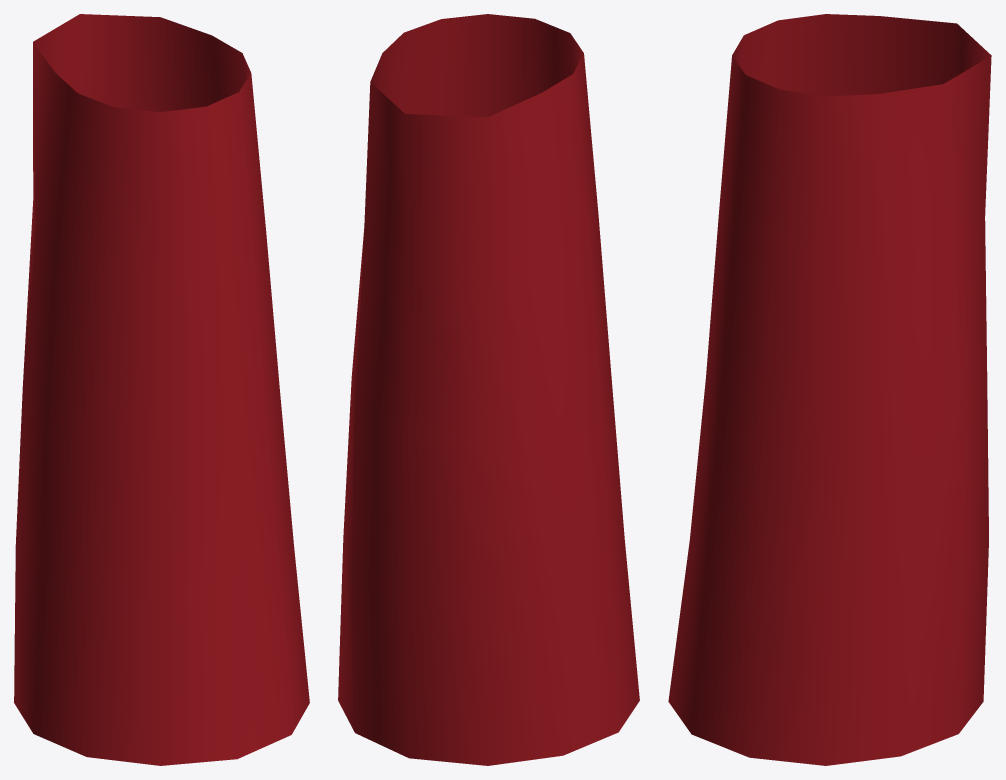
File: santa_costume_greave.R.glb
3 renders of one model, left to right at view 1: azimuth 30°, elevation 25°; view 2: azimuth 150°, elevation 25°; view 3: azimuth 270°, elevation 25°, orthographic. The views are drawn at different scales.
Visible parts, largest first — view 1: santa_costume_greave.R; view 2: santa_costume_greave.R; view 3: santa_costume_greave.R.
Boxes of the visible parts, x1,y1,x2,y2 form: santa_costume_greave.R: (14,14,309,765); santa_costume_greave.R: (338,14,639,765); santa_costume_greave.R: (668,14,991,765).
Size of the model in its own units: 0.16 by 0.3767 by 0.1707.
